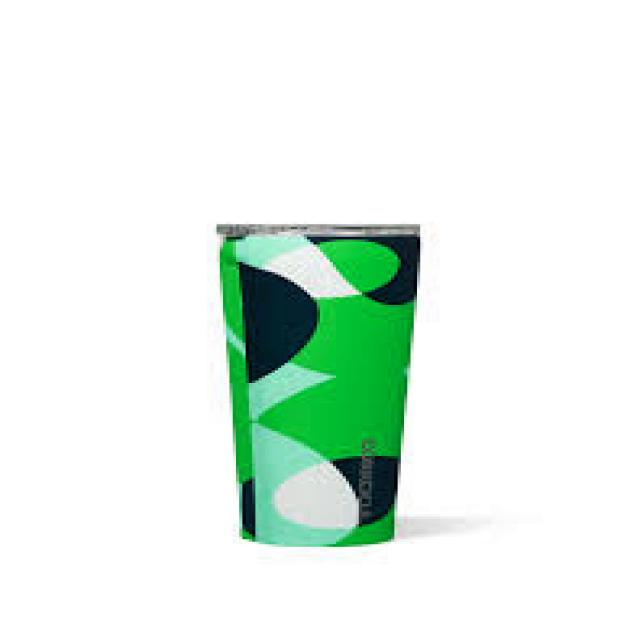bottle: (216, 224, 425, 545)
